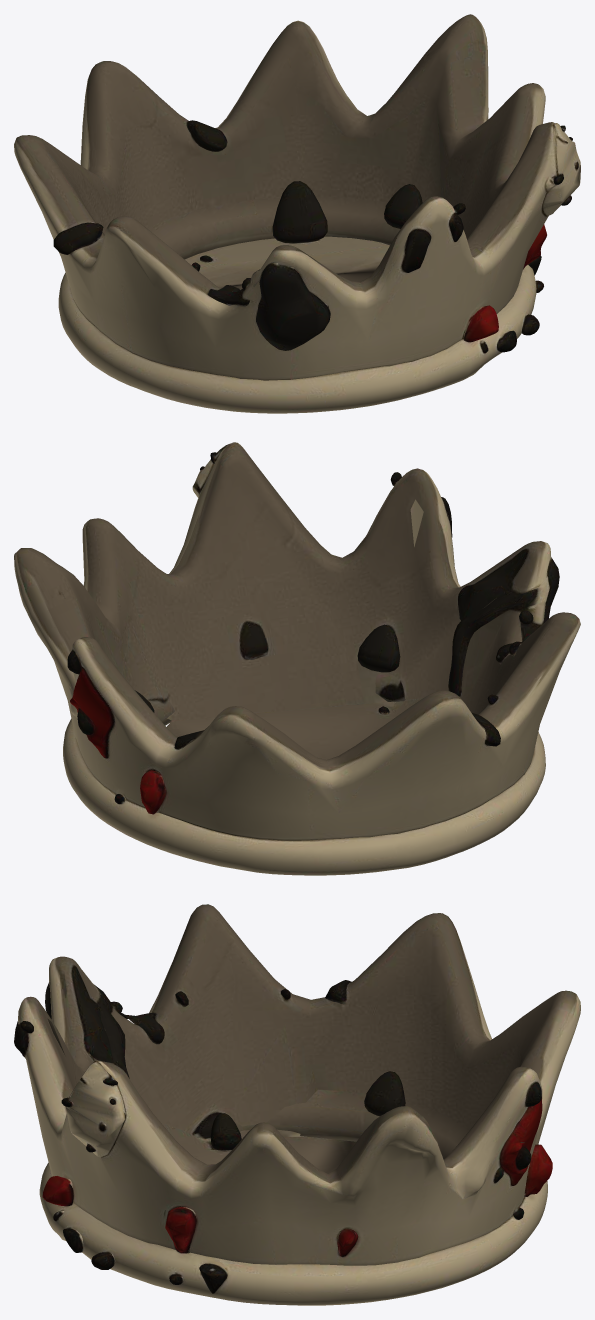
The model's file is acc_hat_ice_crown_01.glb.
The picture shows the model from 3 angles, top to bottom: view 1: azimuth 30°, elevation 25°; view 2: azimuth 150°, elevation 25°; view 3: azimuth 270°, elevation 25°; orthographic projection. The views are drawn at different scales.
Parts seen in each view (by area): view 1: acc_hat_ice_crown_01; view 2: acc_hat_ice_crown_01; view 3: acc_hat_ice_crown_01.
Part boxes in pixels (bbox=[...]): acc_hat_ice_crown_01: bbox=[14, 14, 580, 413]; acc_hat_ice_crown_01: bbox=[14, 442, 580, 875]; acc_hat_ice_crown_01: bbox=[14, 904, 580, 1305].
Size of the model in its own units: 0.5855 by 0.28 by 0.5855.
1 material, 1 textured.
